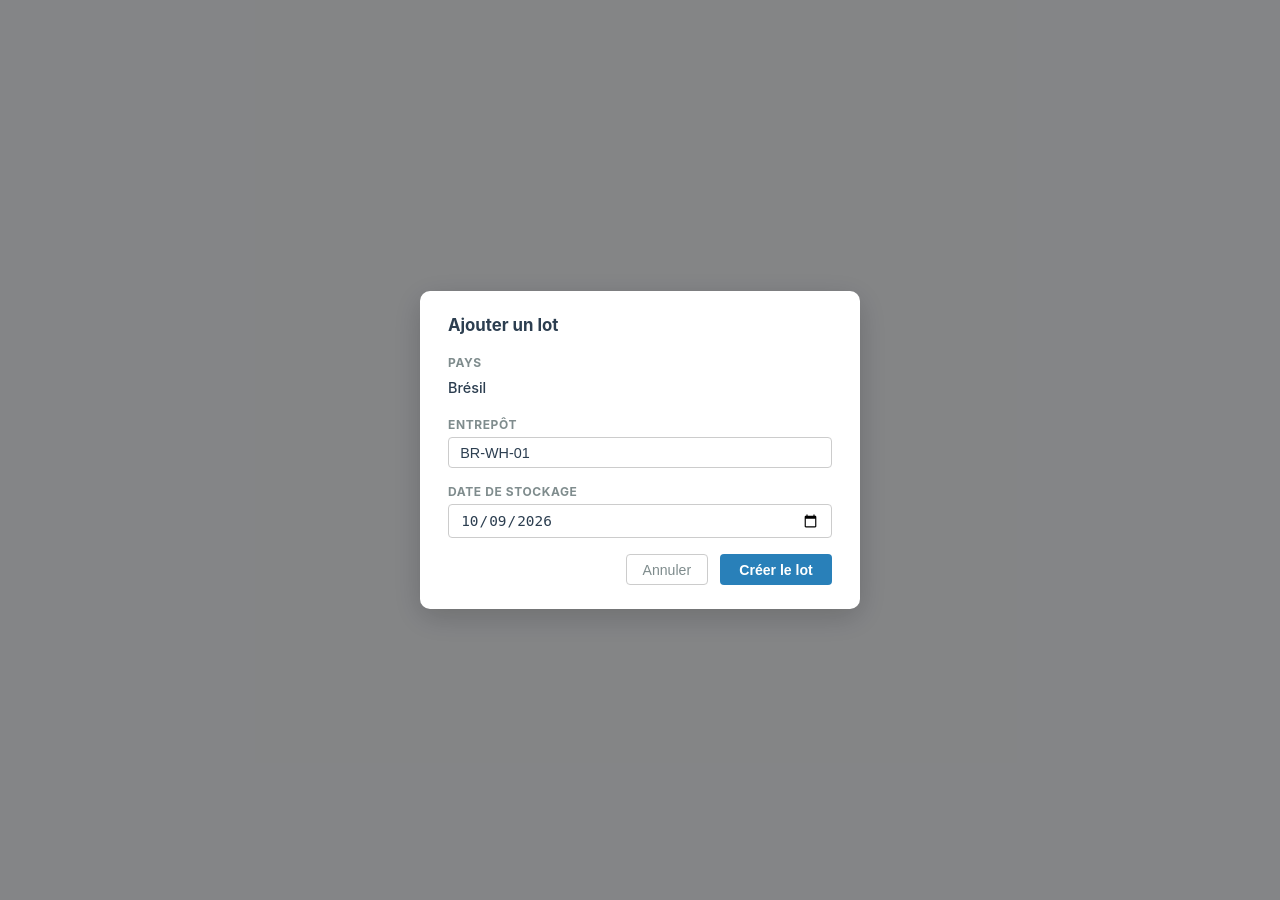
CreateLotForm › F9b – affiche une erreur si warehouseId est vide à la soumission
Note: Vider le champ entrepôt
Step 1. Clear the field labelled "Entrepôt" → (640, 452), box 448,437 -> 832,468
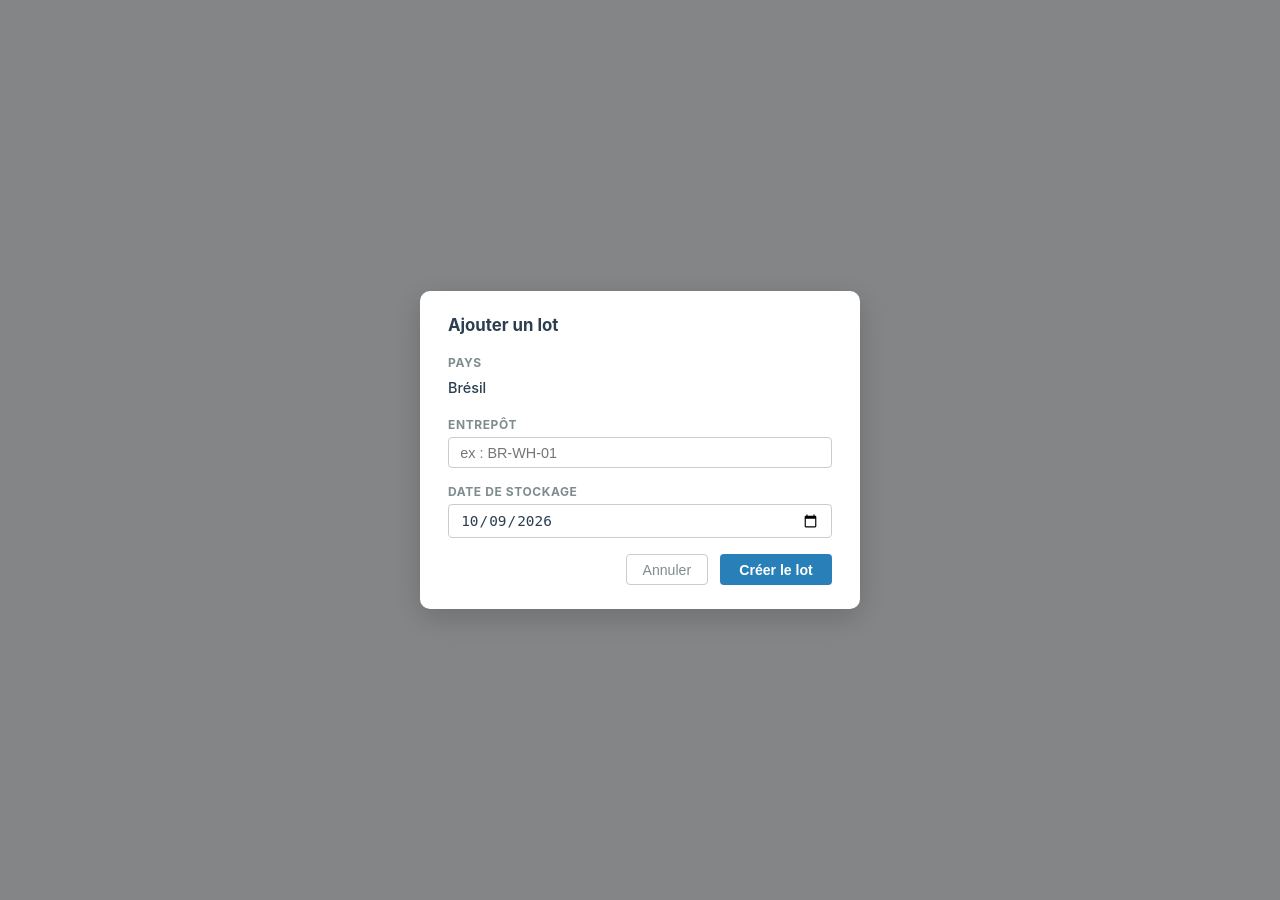
Step 2. Click the button "Créer le lot" → (776, 570), box 720,554 -> 832,585
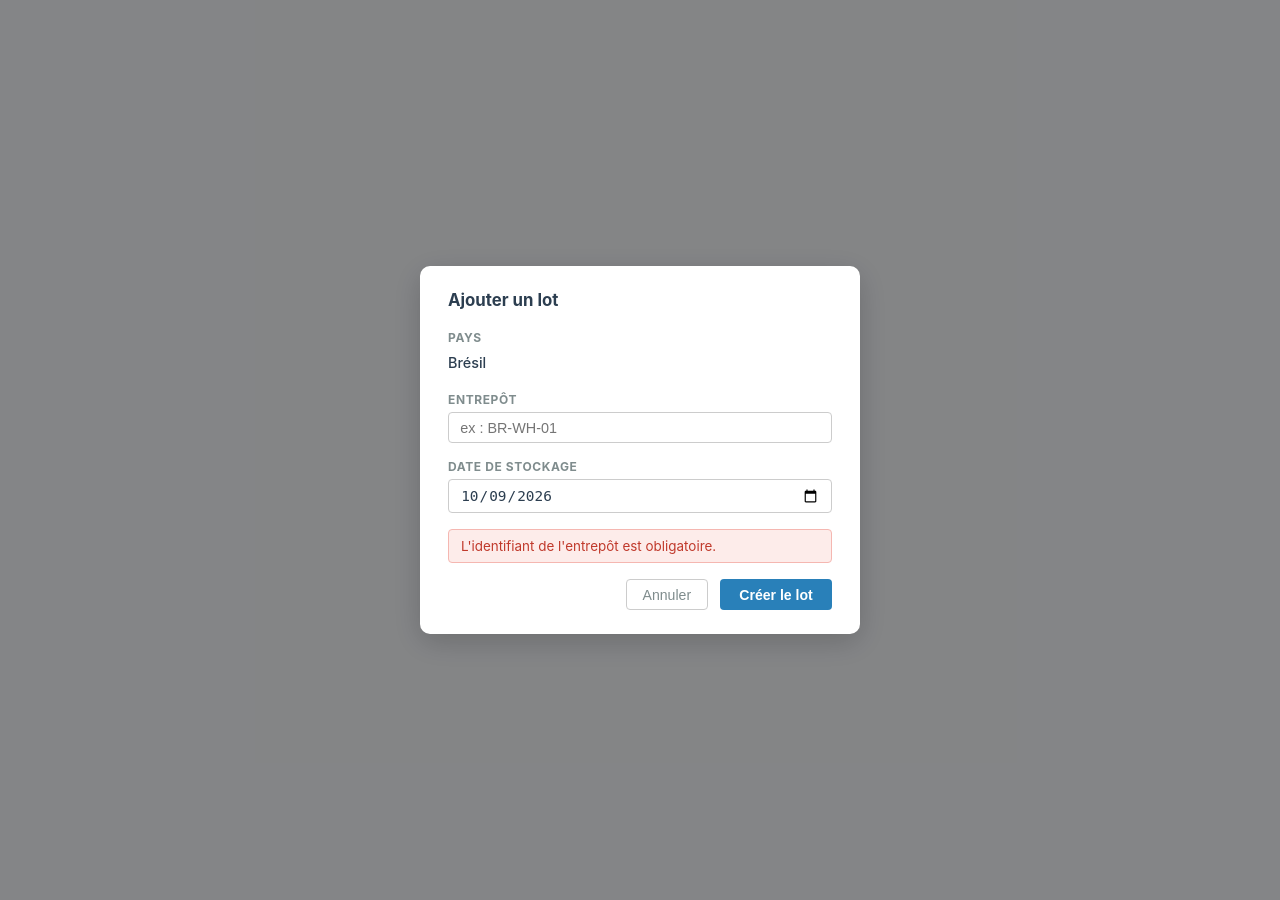
Expected: the text "L'identifiant de l'entrepôt est obligatoire." is shown, 448,529 -> 832,563
